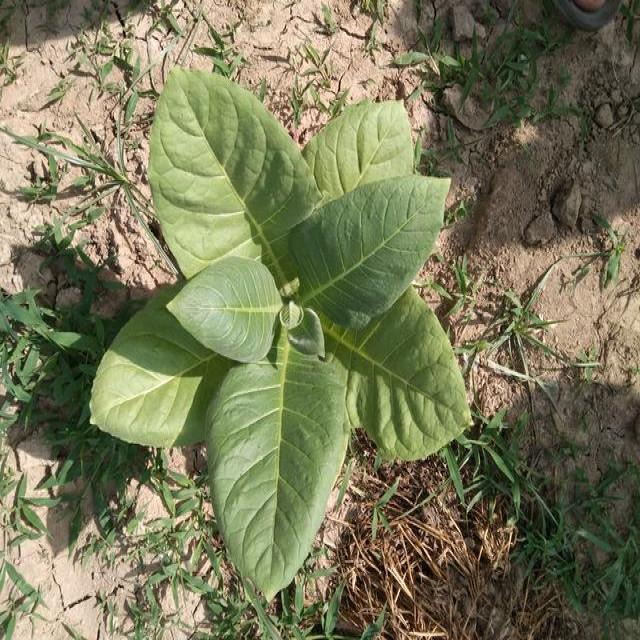crop: (85, 62, 479, 604)
